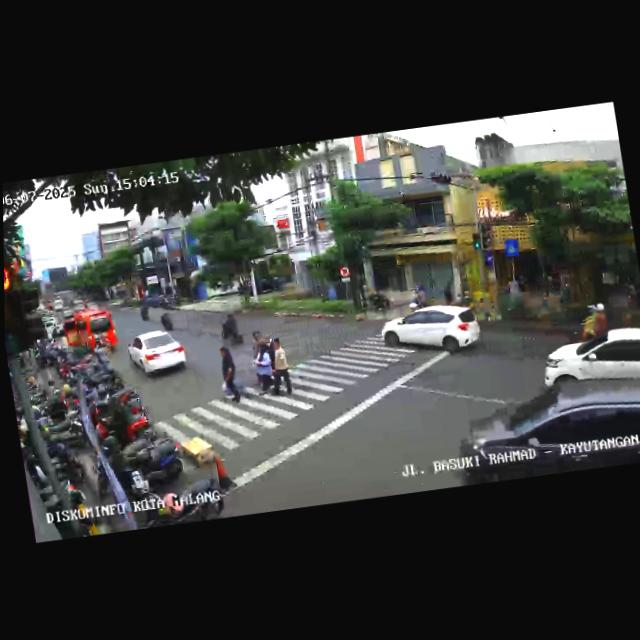car: (448, 367, 640, 487), (537, 325, 640, 389), (382, 300, 480, 366), (124, 326, 191, 385), (60, 306, 118, 357)
motorcycle: (567, 301, 617, 344), (219, 311, 245, 345), (158, 309, 174, 334)
person: (265, 335, 293, 401), (215, 342, 242, 408), (253, 343, 274, 397), (249, 329, 270, 358)
